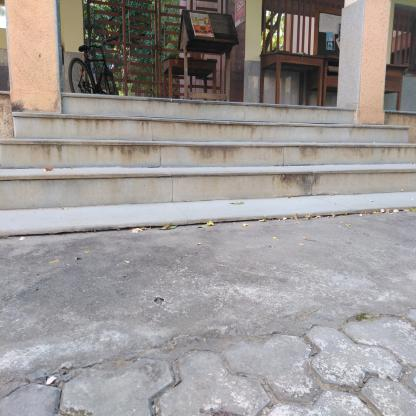stairs: (63, 101, 353, 200)
